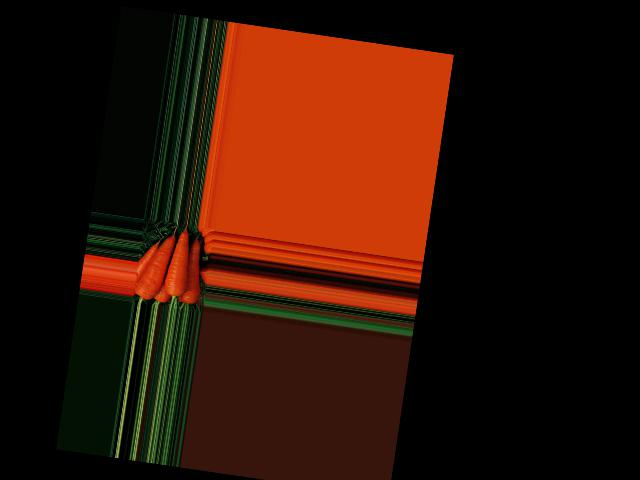carrot: (136, 228, 178, 301)
